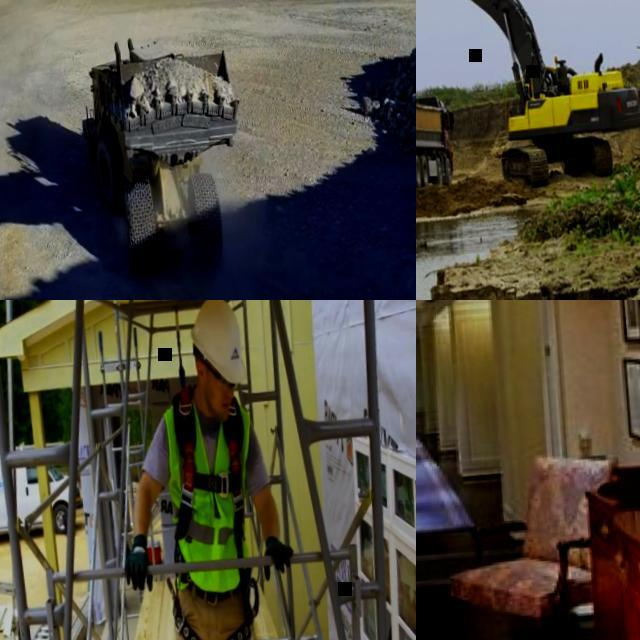Helmet: (172, 293, 264, 408)
Robbery: (130, 308, 307, 640)
